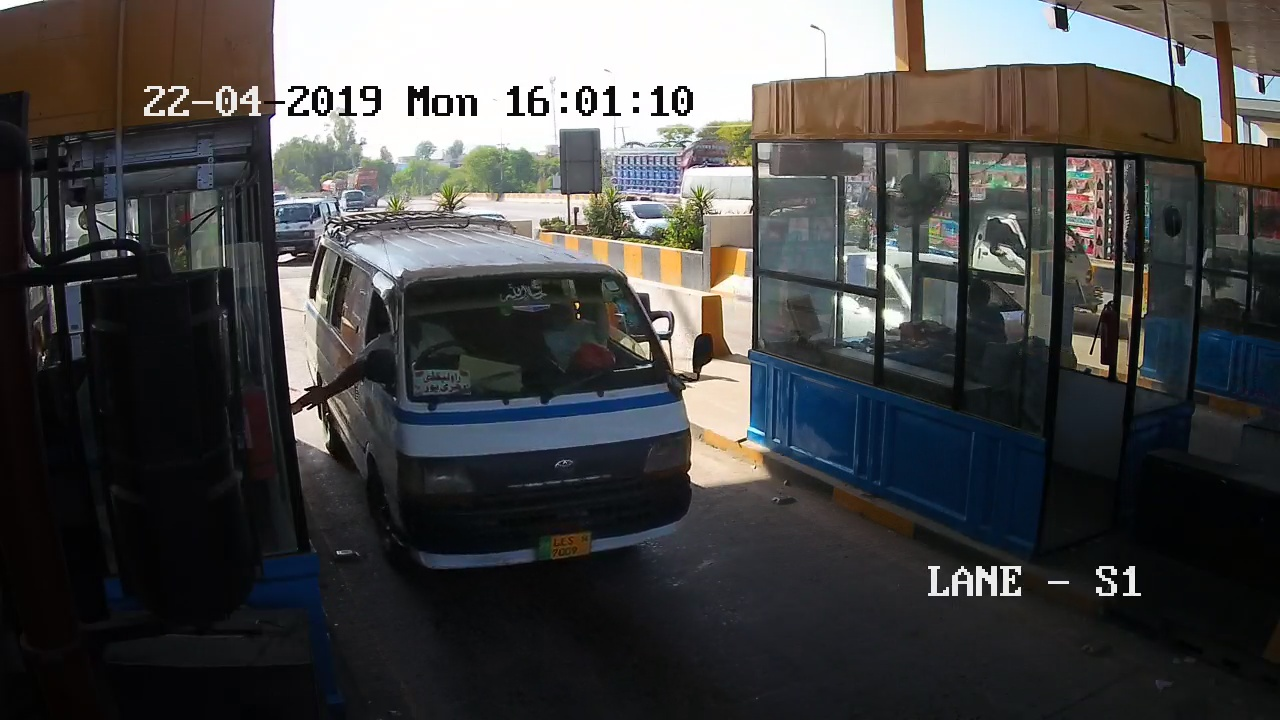Number Plate (Car): (538, 529, 592, 560)
